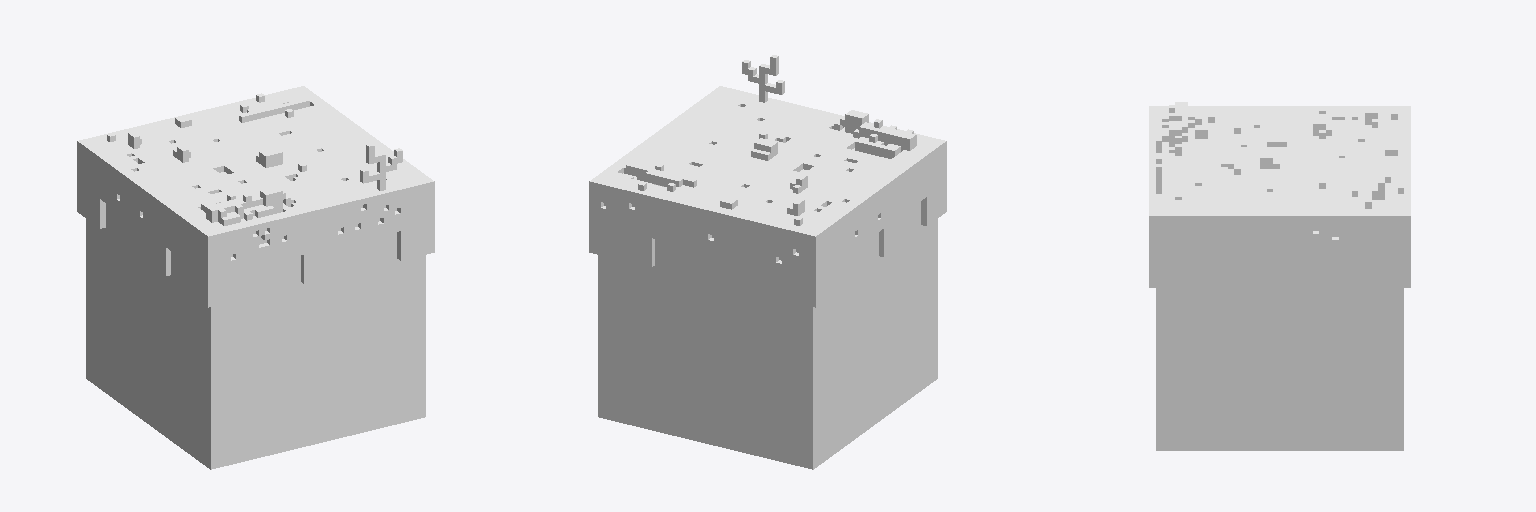
Rendered from tile_base_top_3.obj.
3 views of the same model, side by side, from view 1: azimuth 30°, elevation 25°; view 2: azimuth 150°, elevation 25°; view 3: azimuth 270°, elevation 25° (orthographic).
Parts seen in each view (by area): view 1: tile_base_top_3; view 2: tile_base_top_3; view 3: tile_base_top_3.
Part boxes in pixels (left/top/right/bottom): tile_base_top_3: left=77, top=86, right=434, bottom=469; tile_base_top_3: left=589, top=55, right=946, bottom=469; tile_base_top_3: left=1149, top=102, right=1410, bottom=450.
Bounding box in the file's own units: 40 × 48 × 40.